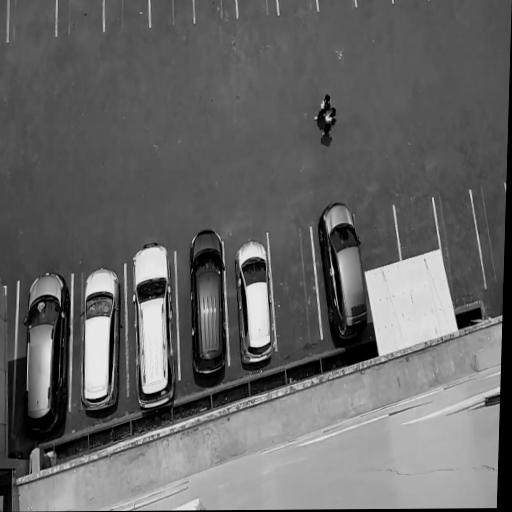Car: (20, 267, 71, 443), (315, 200, 373, 349), (132, 235, 178, 416), (188, 223, 228, 379), (81, 261, 121, 415), (236, 237, 275, 368)
Space Available: (269, 229, 321, 350), (434, 190, 485, 294), (472, 182, 506, 288), (354, 209, 400, 273), (395, 197, 440, 262), (8, 0, 57, 43), (57, 0, 103, 36), (104, 0, 151, 31), (150, 0, 194, 27), (195, 0, 238, 25), (238, 0, 279, 16), (279, 0, 319, 14)
